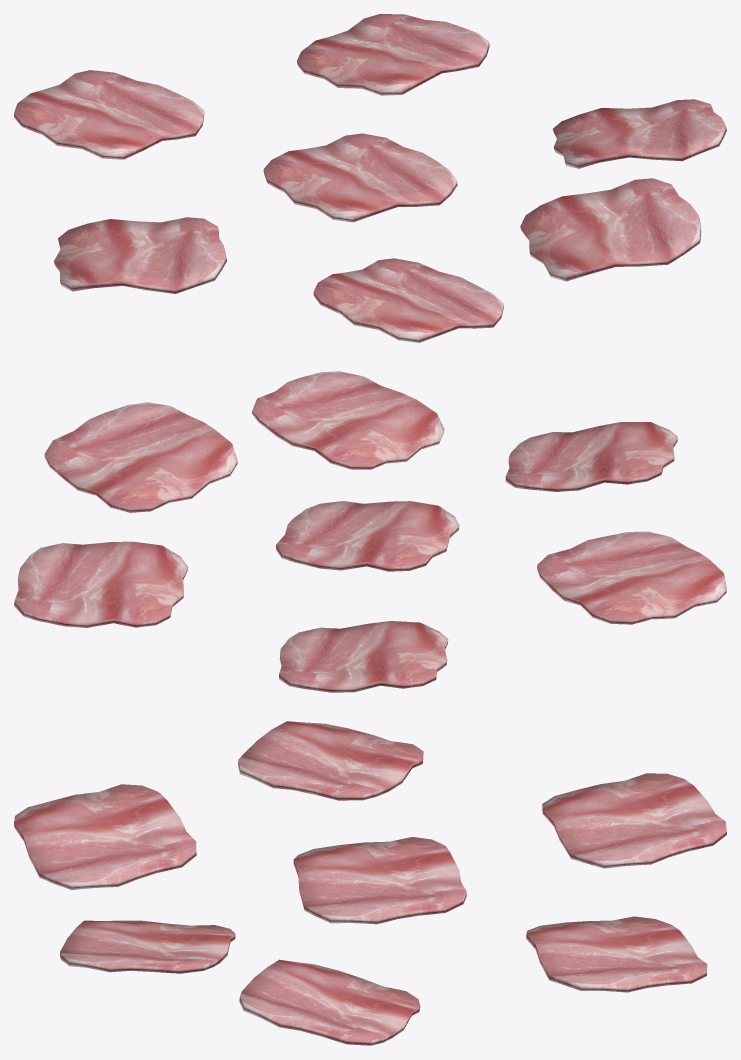
Rendered from ham_topping.fbx.
3 renders of one model, top to bottom at view 1: azimuth 30°, elevation 25°; view 2: azimuth 150°, elevation 25°; view 3: azimuth 270°, elevation 25°, orthographic.
Parts seen in each view (by area): view 1: ham.005, ham, ham.006, ham.001, ham.004, ham.002, ham.003; view 2: ham.003, ham.004, ham.005, ham.001, ham, ham.006, ham.002; view 3: ham.002, ham.006, ham, ham.004, ham.001, ham.003, ham.005.
Part boxes in pixels (box(x1,y1,x2,y2)): ham.005: box(520, 178, 701, 281); ham: box(263, 133, 457, 222); ham.006: box(14, 70, 204, 159); ham.001: box(54, 217, 226, 293); ham.004: box(297, 14, 489, 95); ham.002: box(313, 258, 503, 342); ham.003: box(553, 99, 726, 168); ham.003: box(44, 402, 237, 512); ham.004: box(14, 541, 187, 627); ham.005: box(251, 371, 444, 469); ham.001: box(537, 531, 726, 624); ham: box(276, 501, 459, 571); ham.006: box(279, 621, 448, 692); ham.002: box(505, 422, 677, 491); ham.002: box(14, 784, 196, 890); ham.006: box(542, 773, 726, 868); ham: box(293, 837, 466, 924); ham.004: box(526, 916, 707, 992); ham.001: box(238, 721, 423, 800); ham.003: box(239, 959, 420, 1045); ham.005: box(60, 920, 235, 973).
Size of the model in its own units: 53.22 by 2.54 by 49.75.
7 materials, 7 textured.
